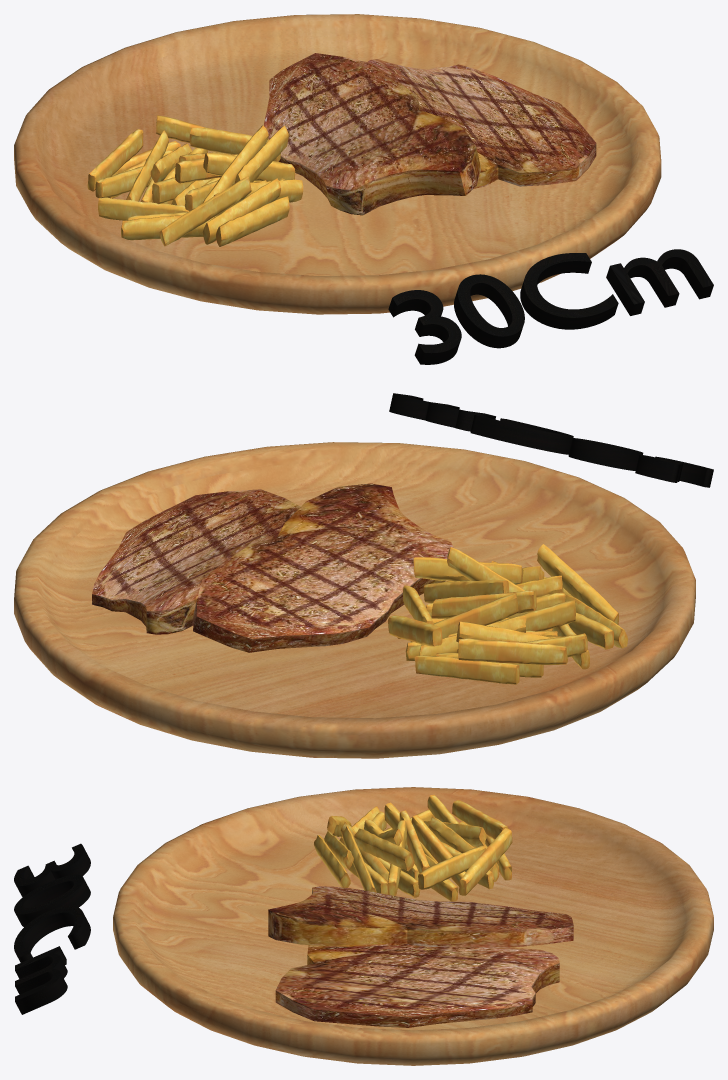
Rendered from steak.glb.
3 views of the same model, one above another, from view 1: azimuth 30°, elevation 25°; view 2: azimuth 150°, elevation 25°; view 3: azimuth 270°, elevation 25° (orthographic). The views are drawn at different scales.
Parts seen in each view (by area): view 1: Object_2.002, Object_2.001, Object_2.003, Object_2, Text; view 2: Object_2.002, Object_2.001, Object_2.003, Object_2, Text; view 3: Object_2.002, Object_2, Object_2.003, Object_2.001, Text.
Part boxes in pixels (box(x1,y1,x2,y2)): Object_2.002: box(14, 14, 661, 314); Object_2.001: box(264, 53, 481, 215); Object_2.003: box(87, 115, 303, 246); Object_2: box(367, 59, 596, 188); Text: box(388, 249, 713, 364); Object_2.002: box(14, 442, 695, 758); Object_2.001: box(193, 483, 453, 652); Object_2.003: box(388, 544, 627, 684); Object_2: box(92, 489, 300, 634); Text: box(389, 393, 713, 487); Object_2.002: box(113, 787, 713, 1065); Object_2: box(275, 944, 559, 1027); Object_2.003: box(314, 794, 512, 901); Object_2.001: box(268, 886, 573, 947); Text: box(14, 843, 90, 1014).
Bounding box in the file's own units: 0.2225 × 0.0334 × 0.2592.
5 materials, 5 textured.
